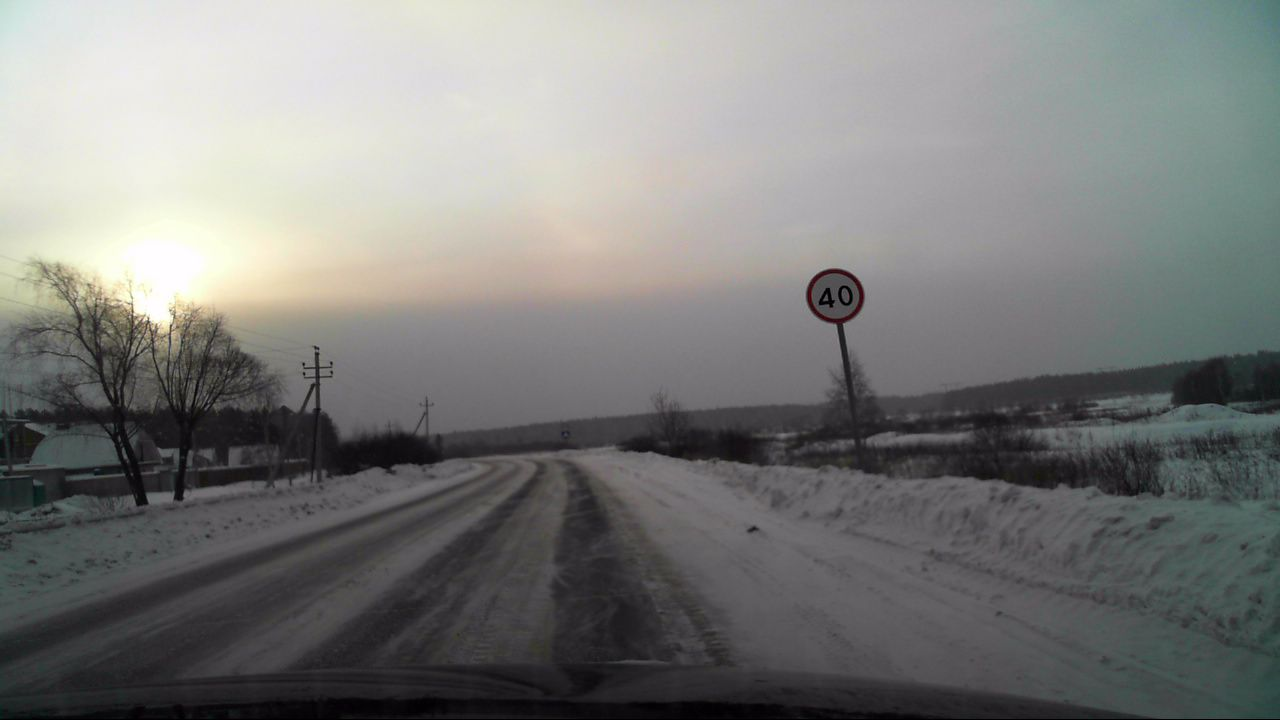speed_warning_40: (807, 267, 865, 323)
